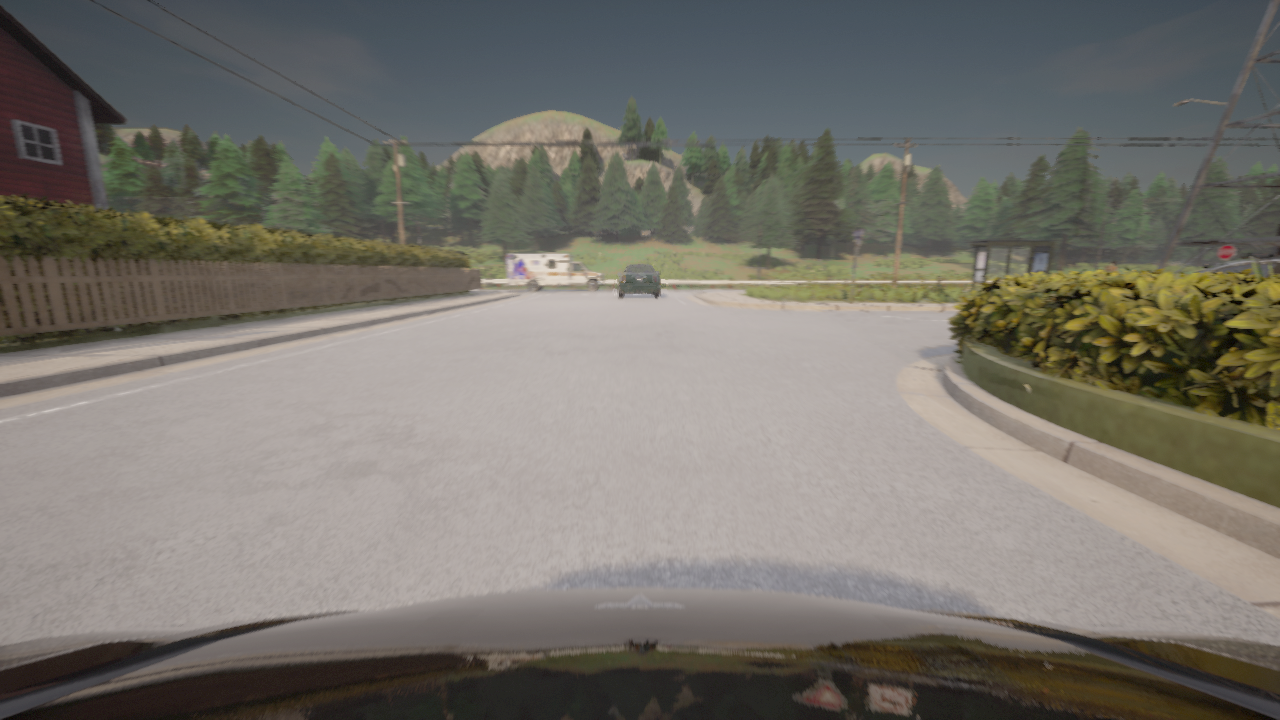cyclist: (0, 588, 1279, 719), (504, 253, 605, 292), (1198, 251, 1279, 278), (618, 263, 659, 297)
pedestrian: (1104, 261, 1117, 271)
